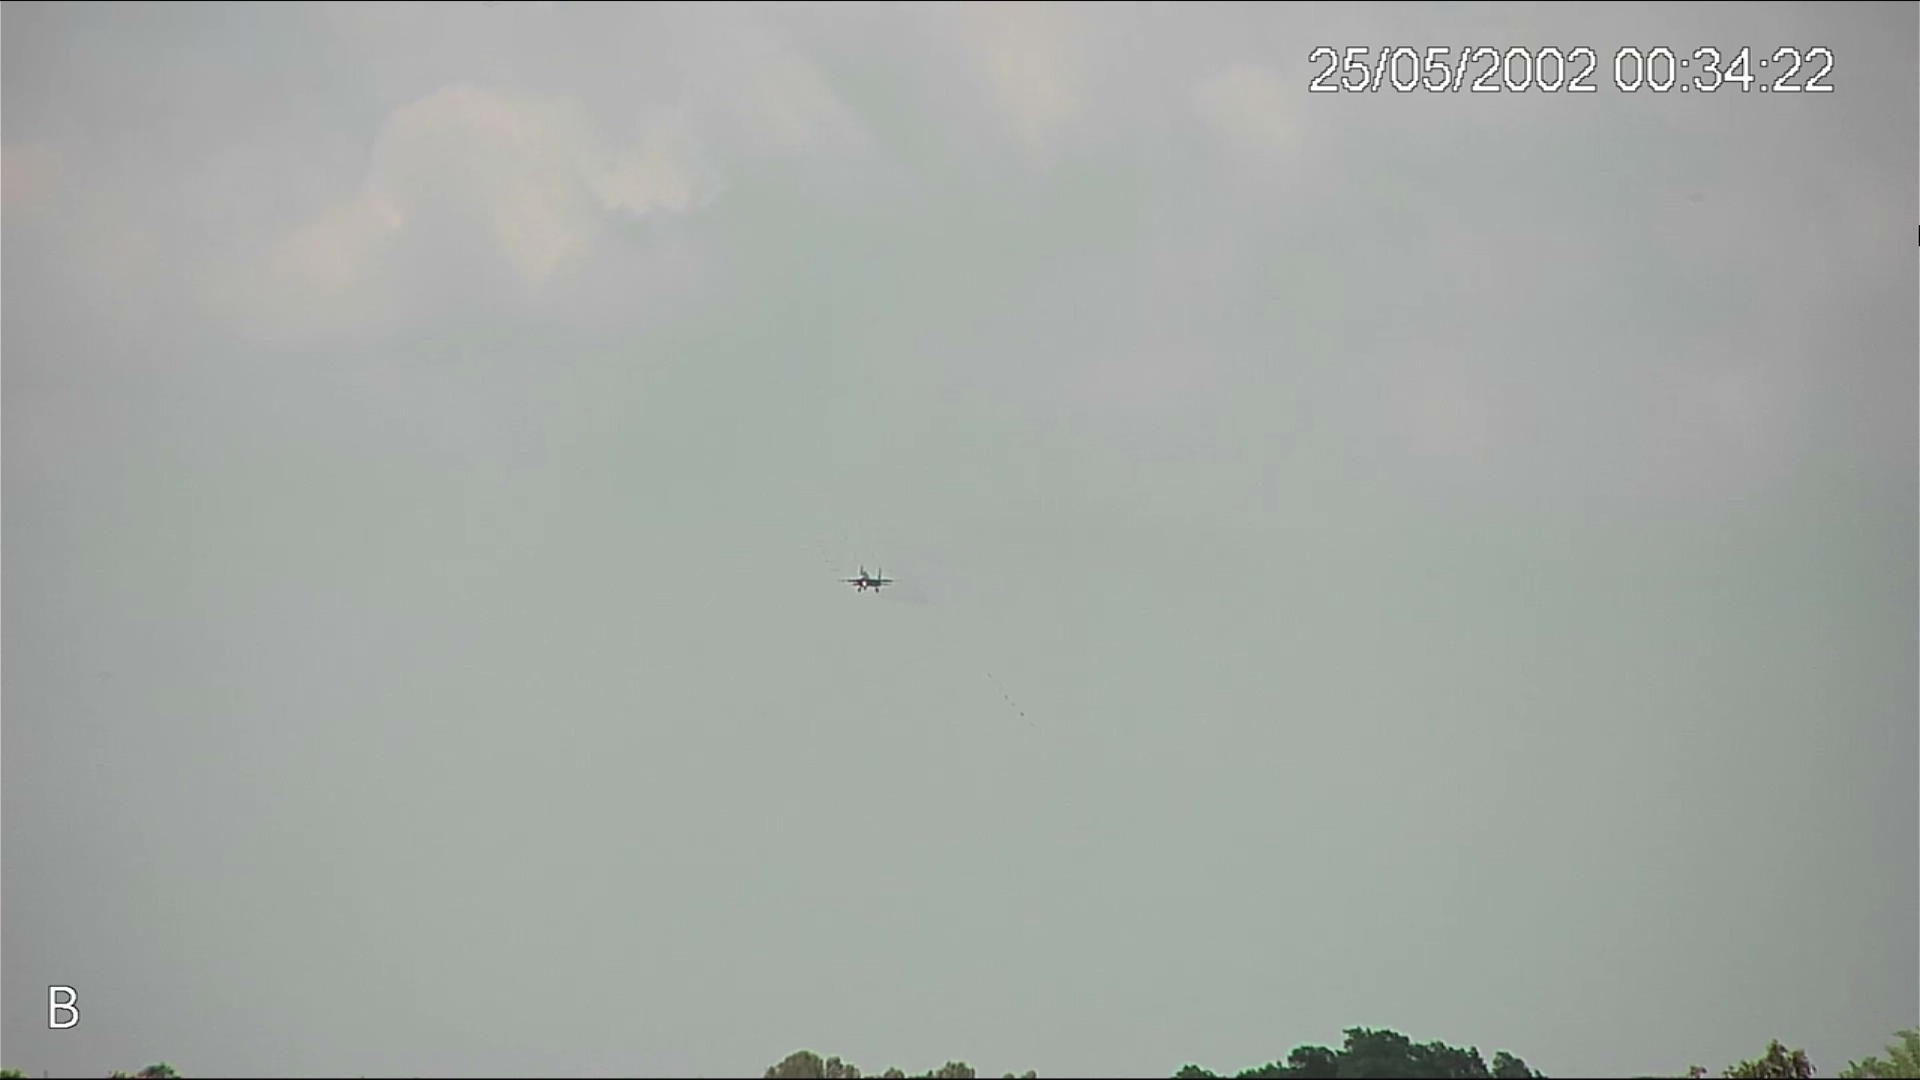SU_30: (831, 562, 898, 593)
